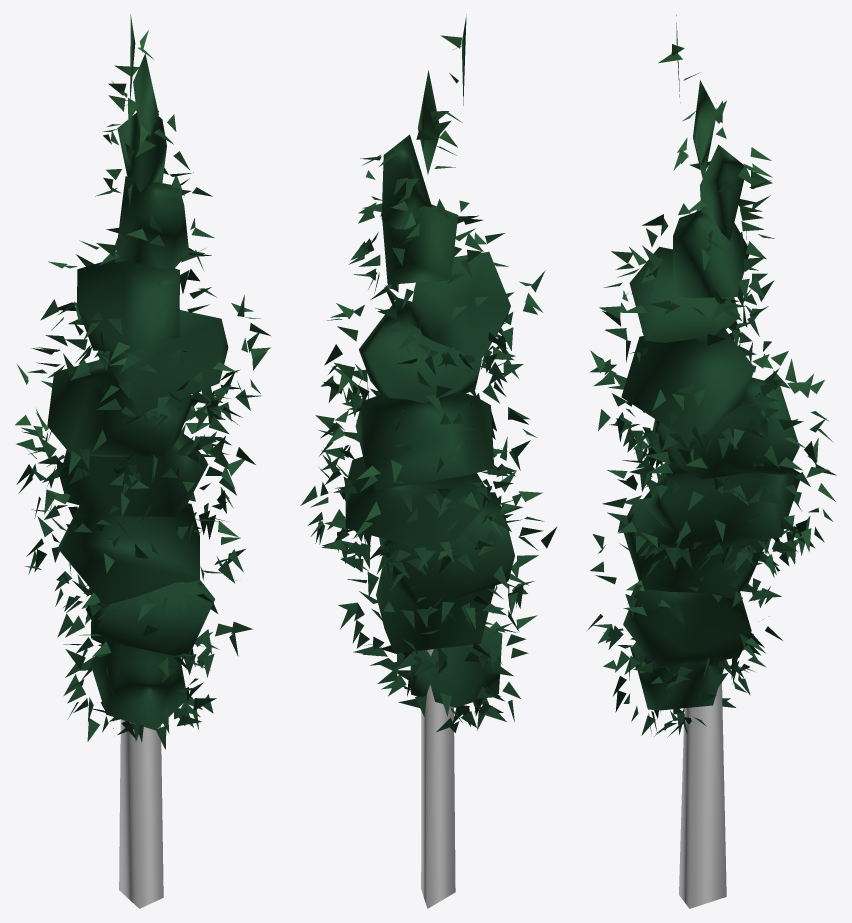
File: t_cypress.fbx
3 views of the same model, side by side, from view 1: azimuth 30°, elevation 25°; view 2: azimuth 150°, elevation 25°; view 3: azimuth 270°, elevation 25° (orthographic). The views are drawn at different scales.
Visible parts, largest first — view 1: model; view 2: model; view 3: model.
Part boxes in pixels (bbox=[...]): model: bbox=[15, 14, 270, 908]; model: bbox=[300, 14, 557, 908]; model: bbox=[587, 15, 836, 908].
Bounding box in the file's own units: 0.3202 × 1.22 × 0.3178.
